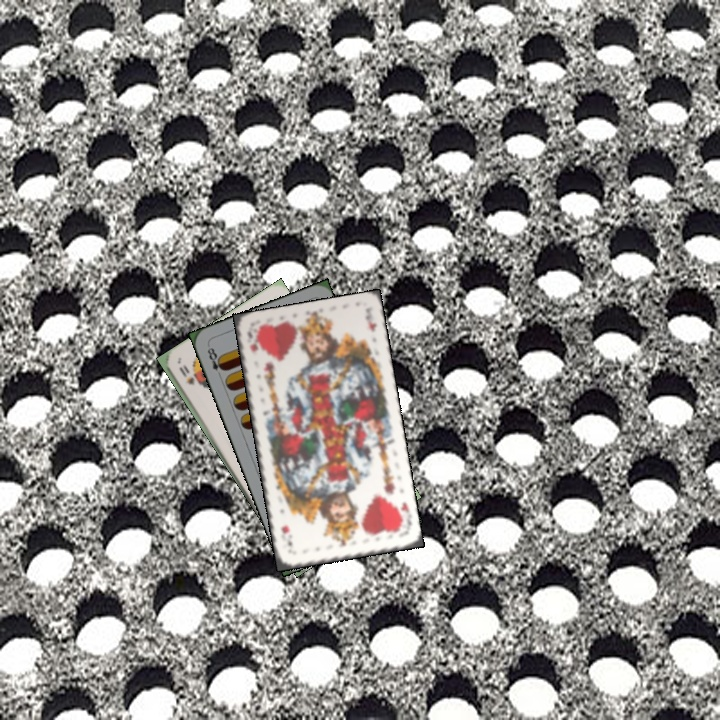E8: (203, 342, 228, 381)
HK: (392, 498, 414, 533), (243, 326, 262, 355)
SO: (175, 362, 197, 388)
